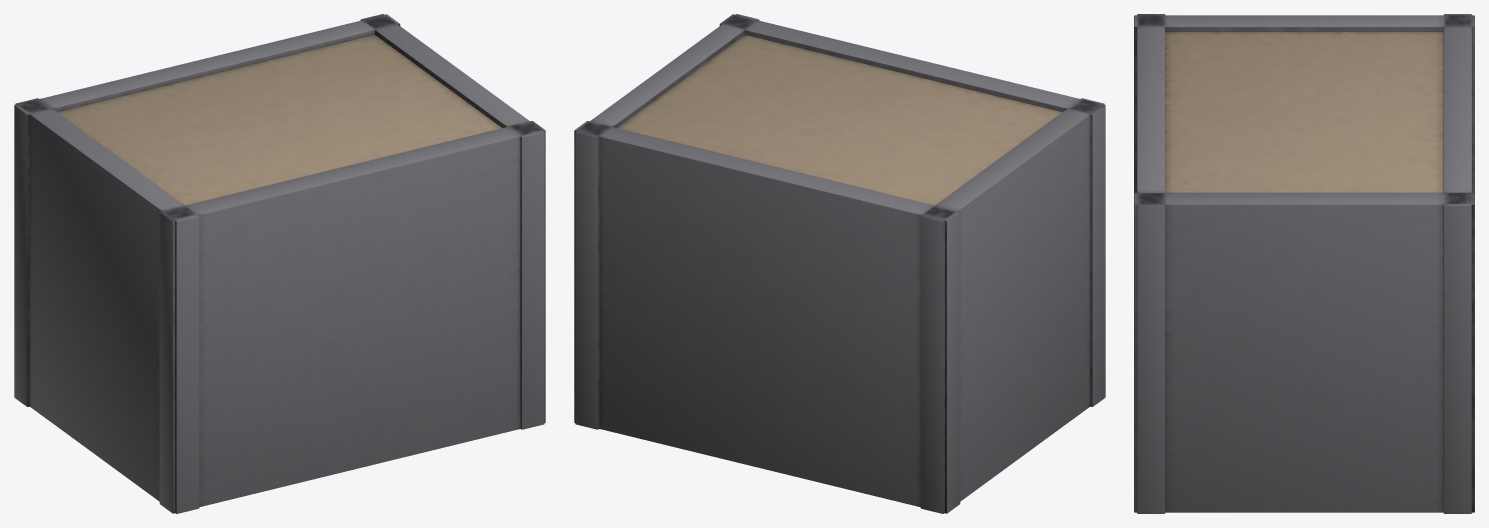
File: kedr_supply_crate.glb
3 renders of one model, left to right at view 1: azimuth 30°, elevation 25°; view 2: azimuth 150°, elevation 25°; view 3: azimuth 270°, elevation 25°, orthographic. The views are drawn at different scales.
Parts seen in each view (by area): view 1: kedr_supply_crate; view 2: kedr_supply_crate; view 3: kedr_supply_crate.
Boxes of the visible parts, left/top/right/bottom form: kedr_supply_crate: left=14, top=14, right=545, bottom=513; kedr_supply_crate: left=574, top=14, right=1105, bottom=513; kedr_supply_crate: left=1134, top=14, right=1474, bottom=513.
Bounding box in the file's own units: 0.8 × 0.6 × 0.6.
1 material, 1 textured.
